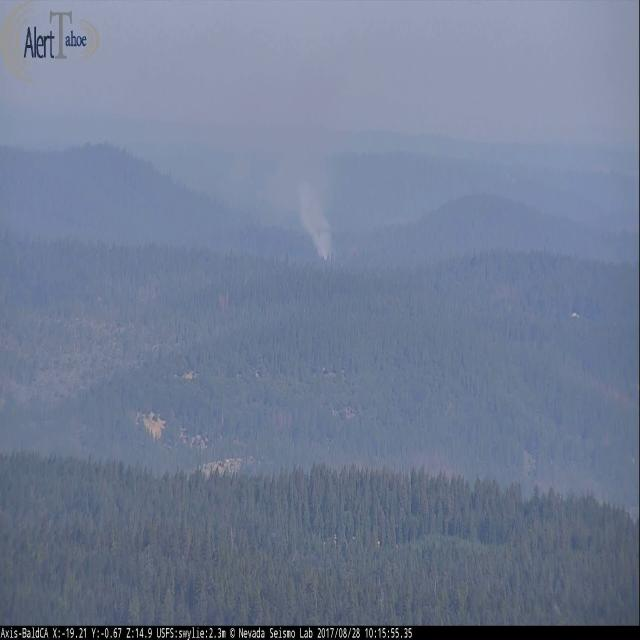smoke: (295, 180, 334, 262)
